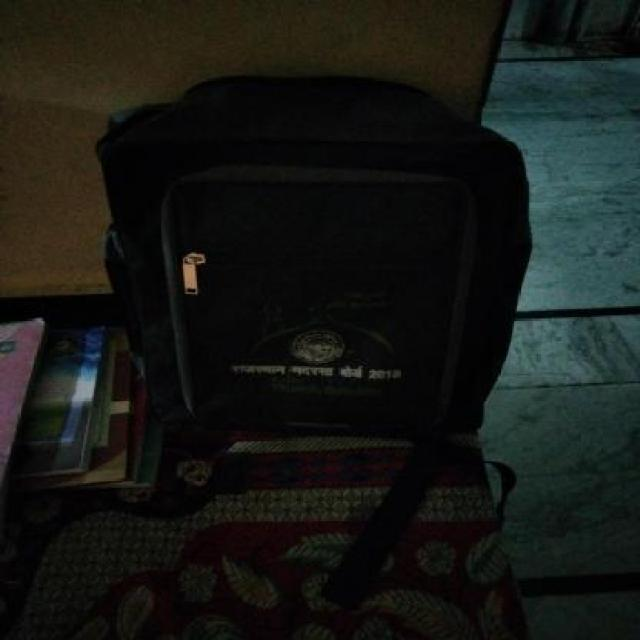backpack: (91, 70, 540, 444)
